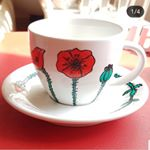cups: (24, 15, 147, 108)
